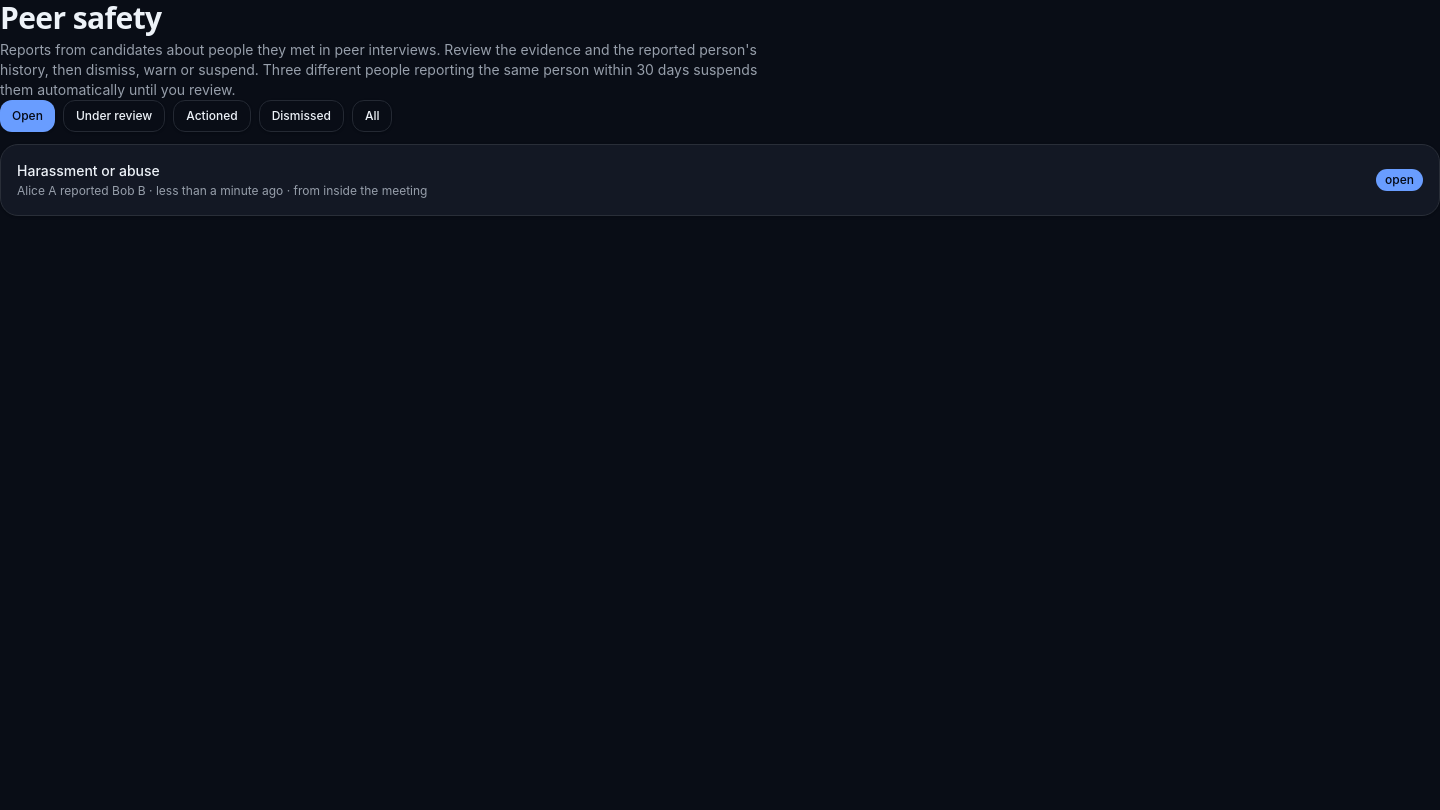
Test: PeerSafetyPage › opens a report with the evidence and the reported person's history
Click the text "Alice A reported Bob B". click: (222,191)
box: x1=17 y1=183 x2=428 y2=199
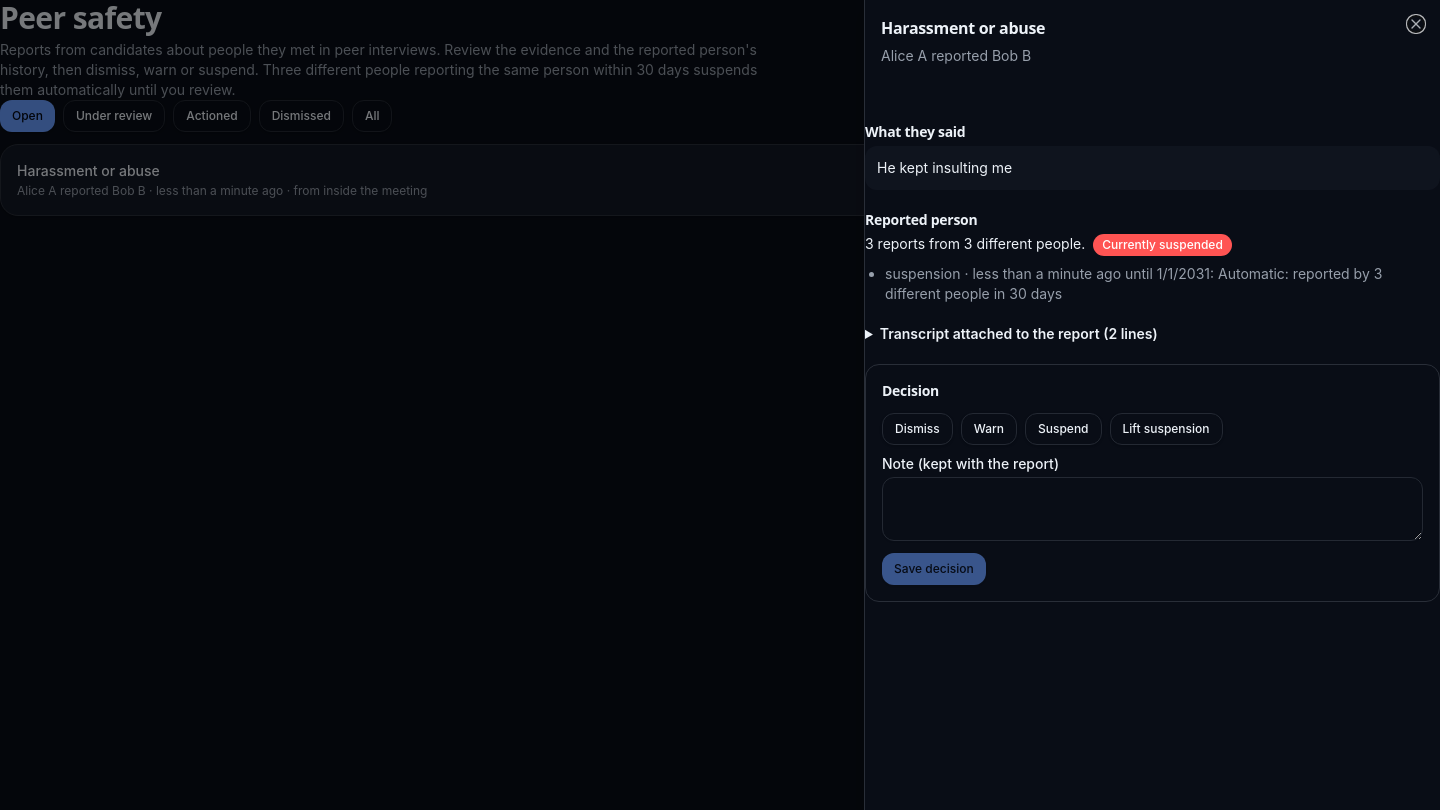
Check: the text "He kept insulting me" is shown, box x1=865 y1=146 x2=1439 y2=190
Check: the text "3 reports from 3 different people. Currently suspended" is shown, box x1=865 y1=234 x2=1232 y2=256
Check: the text "Currently suspended" is shown, box x1=1093 y1=234 x2=1232 y2=256
